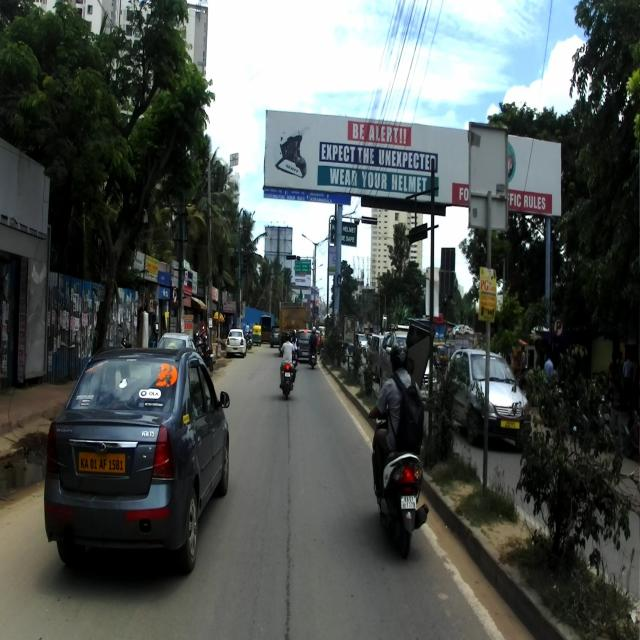car: (43, 346, 229, 580), (442, 349, 530, 452)
scooter: (366, 407, 429, 561)
